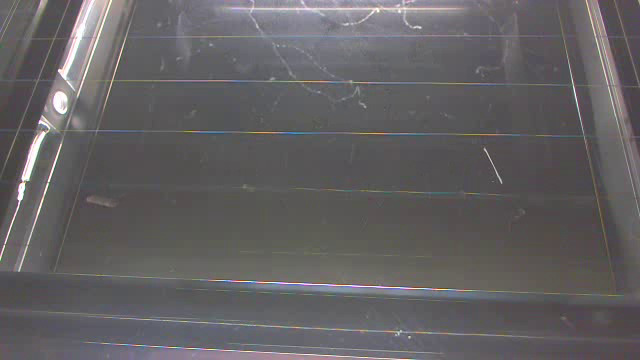alpha: (80, 182, 123, 225)
